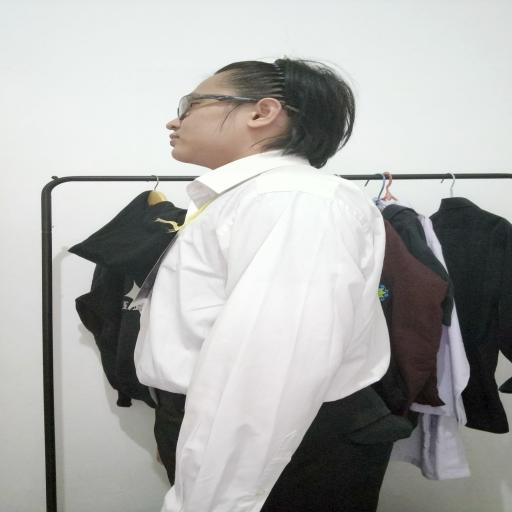celana_benar: (126, 402, 422, 512)
kemeja_benar: (129, 176, 408, 399)
sabuk_ada: (128, 387, 396, 408)
